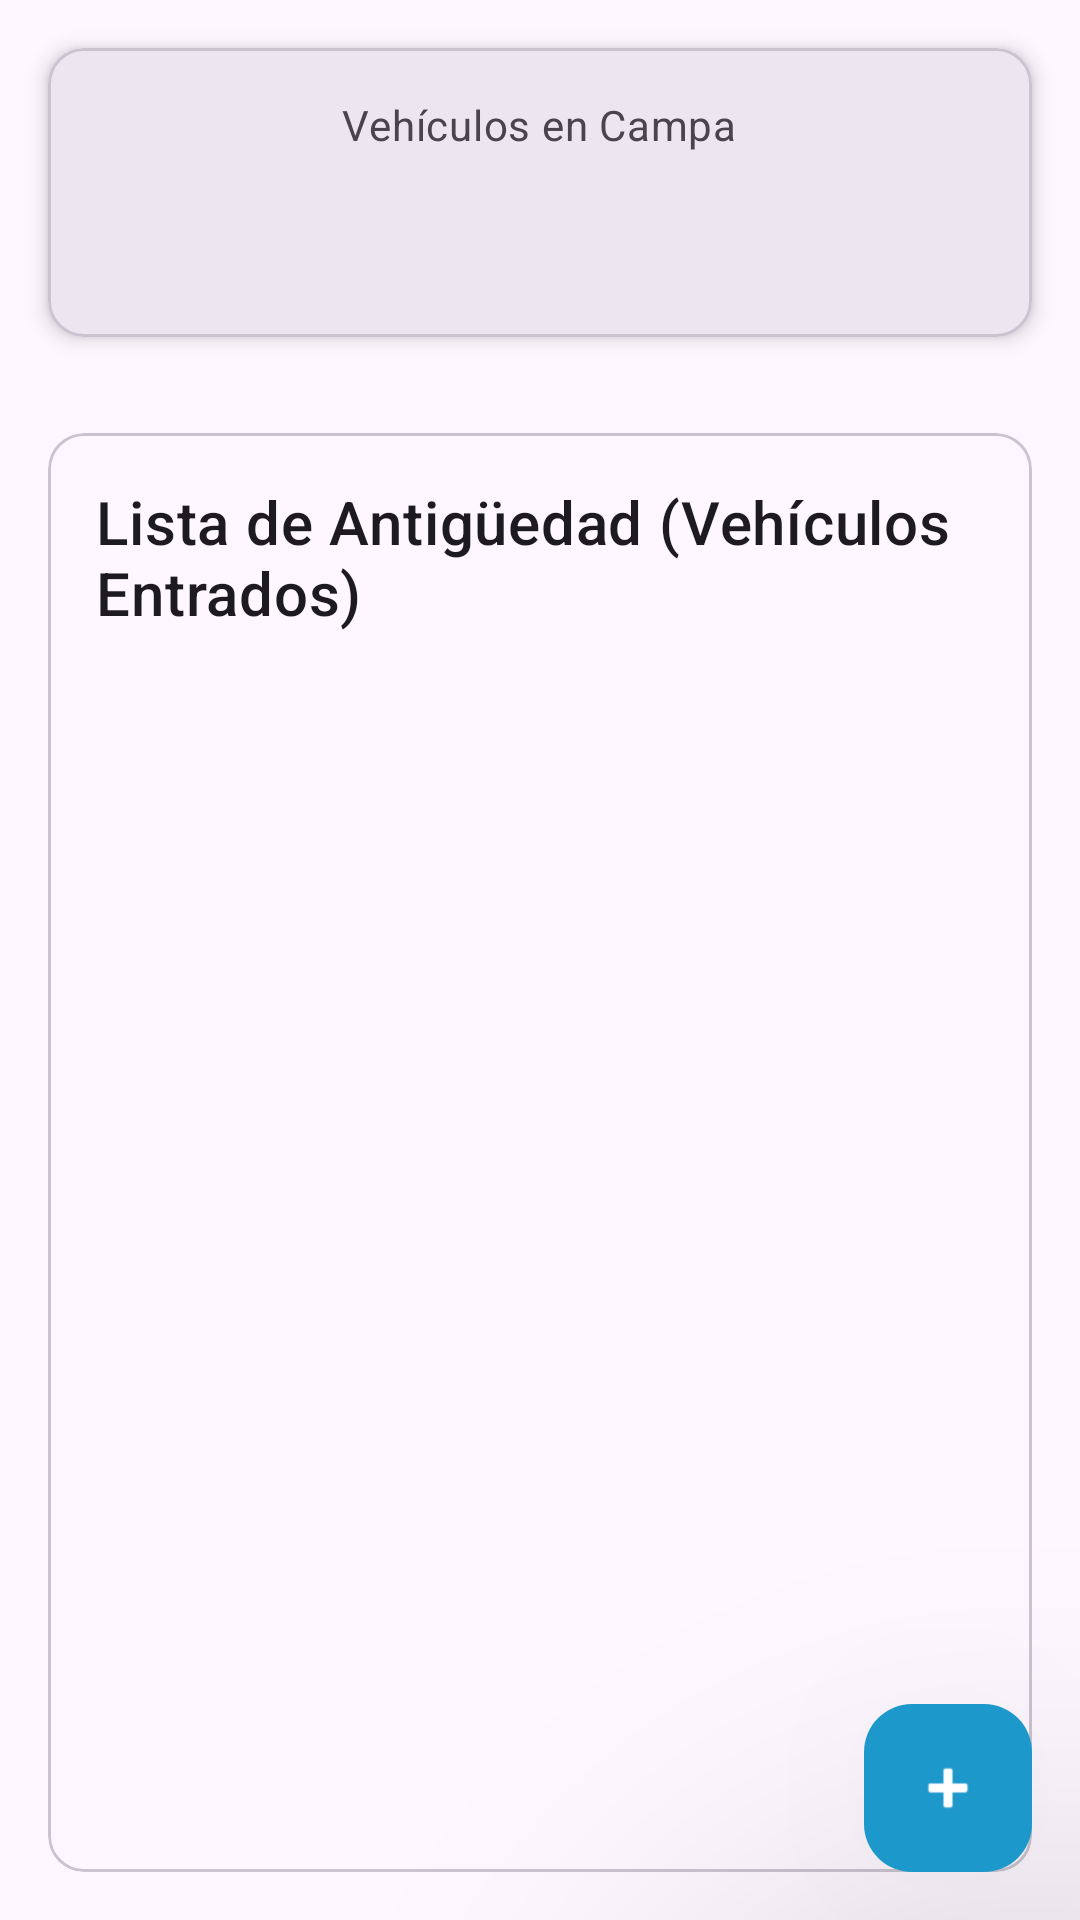

Point at icon controls on the screen. Image size 1080 × 1920, points as point (x, y).
Añadir nuevo vehículo: point (948, 1788)
